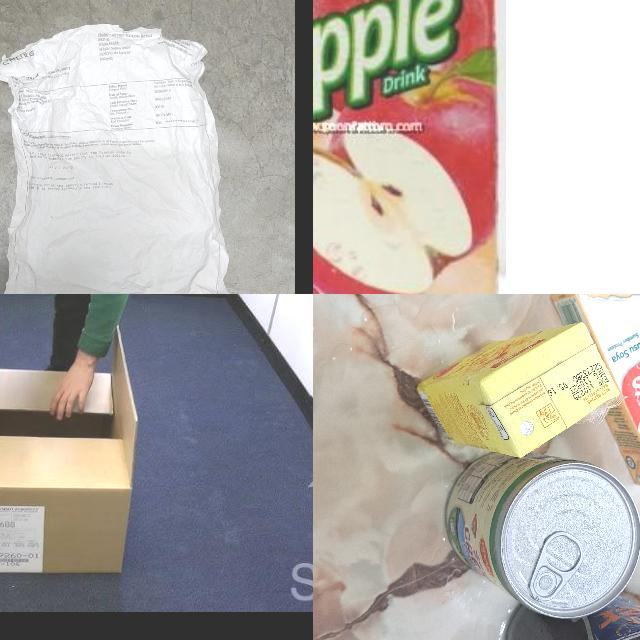aba de lata: (530, 530, 582, 600)
caixinha: (313, 0, 505, 294), (414, 322, 620, 458), (550, 294, 640, 494)
garrafa de vidro: (503, 588, 640, 640)
lata: (442, 449, 640, 617)
papel: (0, 24, 239, 294)
papelão: (0, 313, 138, 575)
